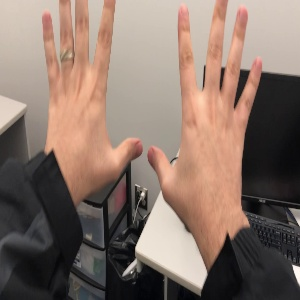hand: (148, 1, 262, 199), (42, 1, 143, 183)
